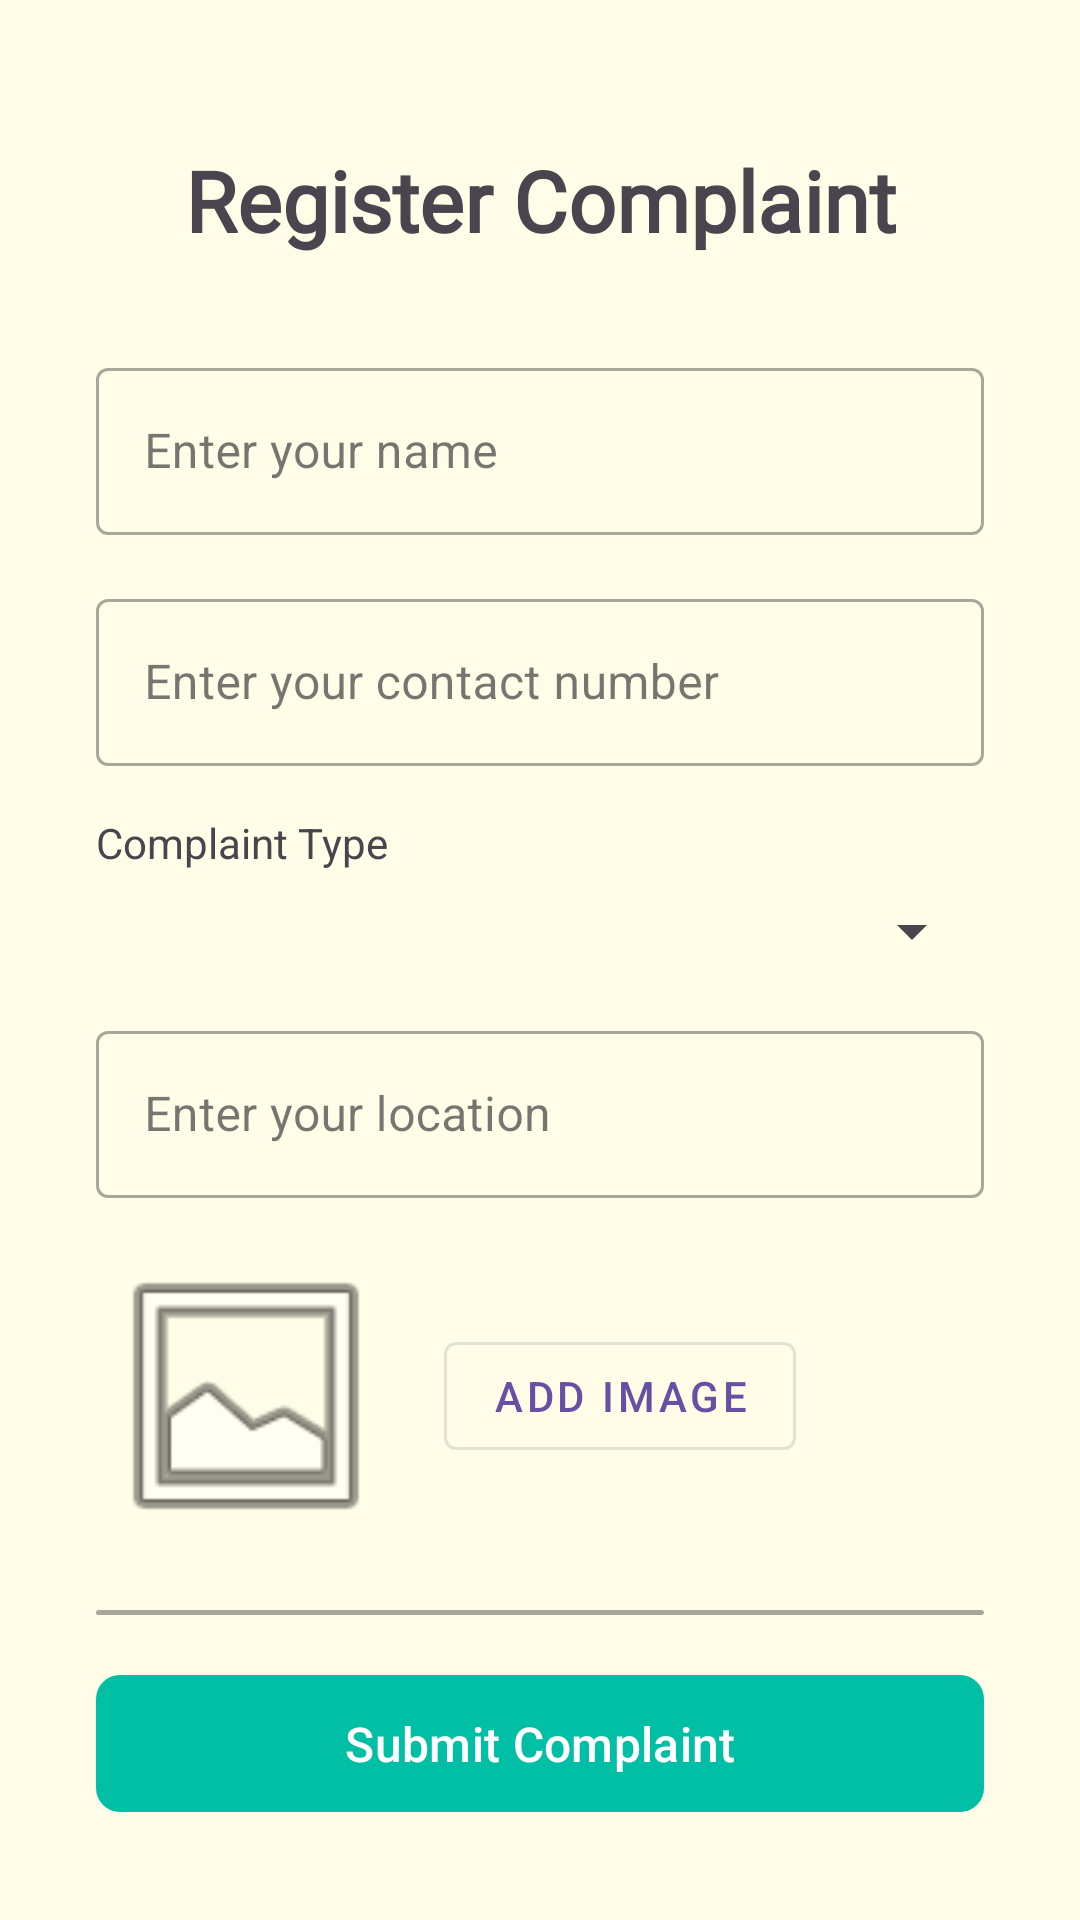

Named icons in this screenshot (1080×1920) and their bounding boxes, (x1, y1, x2, y2):
Image Preview: (132, 1282, 360, 1510)
